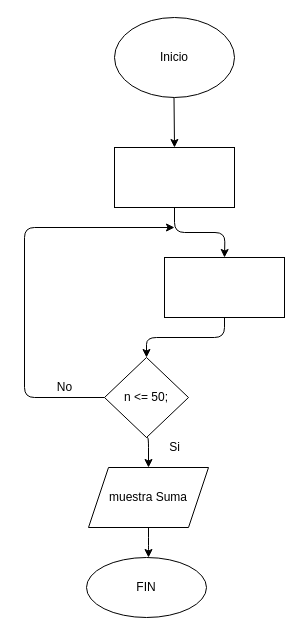
The diagram is 302 pixels wide and 635 high, and some of its shapes have lost their labels. Here are the shapes that lost their labels. From the top down, the box of each, then its label:
(114, 146, 234, 208): Suma = 0; n = 0;
(164, 256, 284, 318): n = n + 1; Suma = Suma + n
